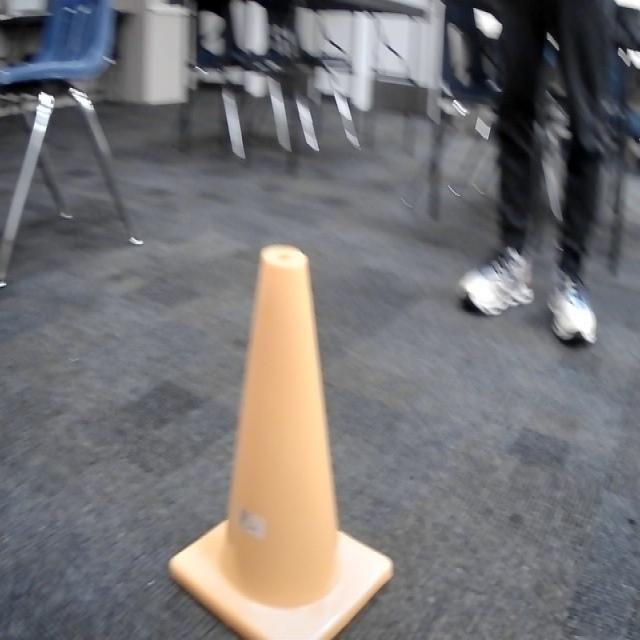cone: (168, 240, 396, 640)
